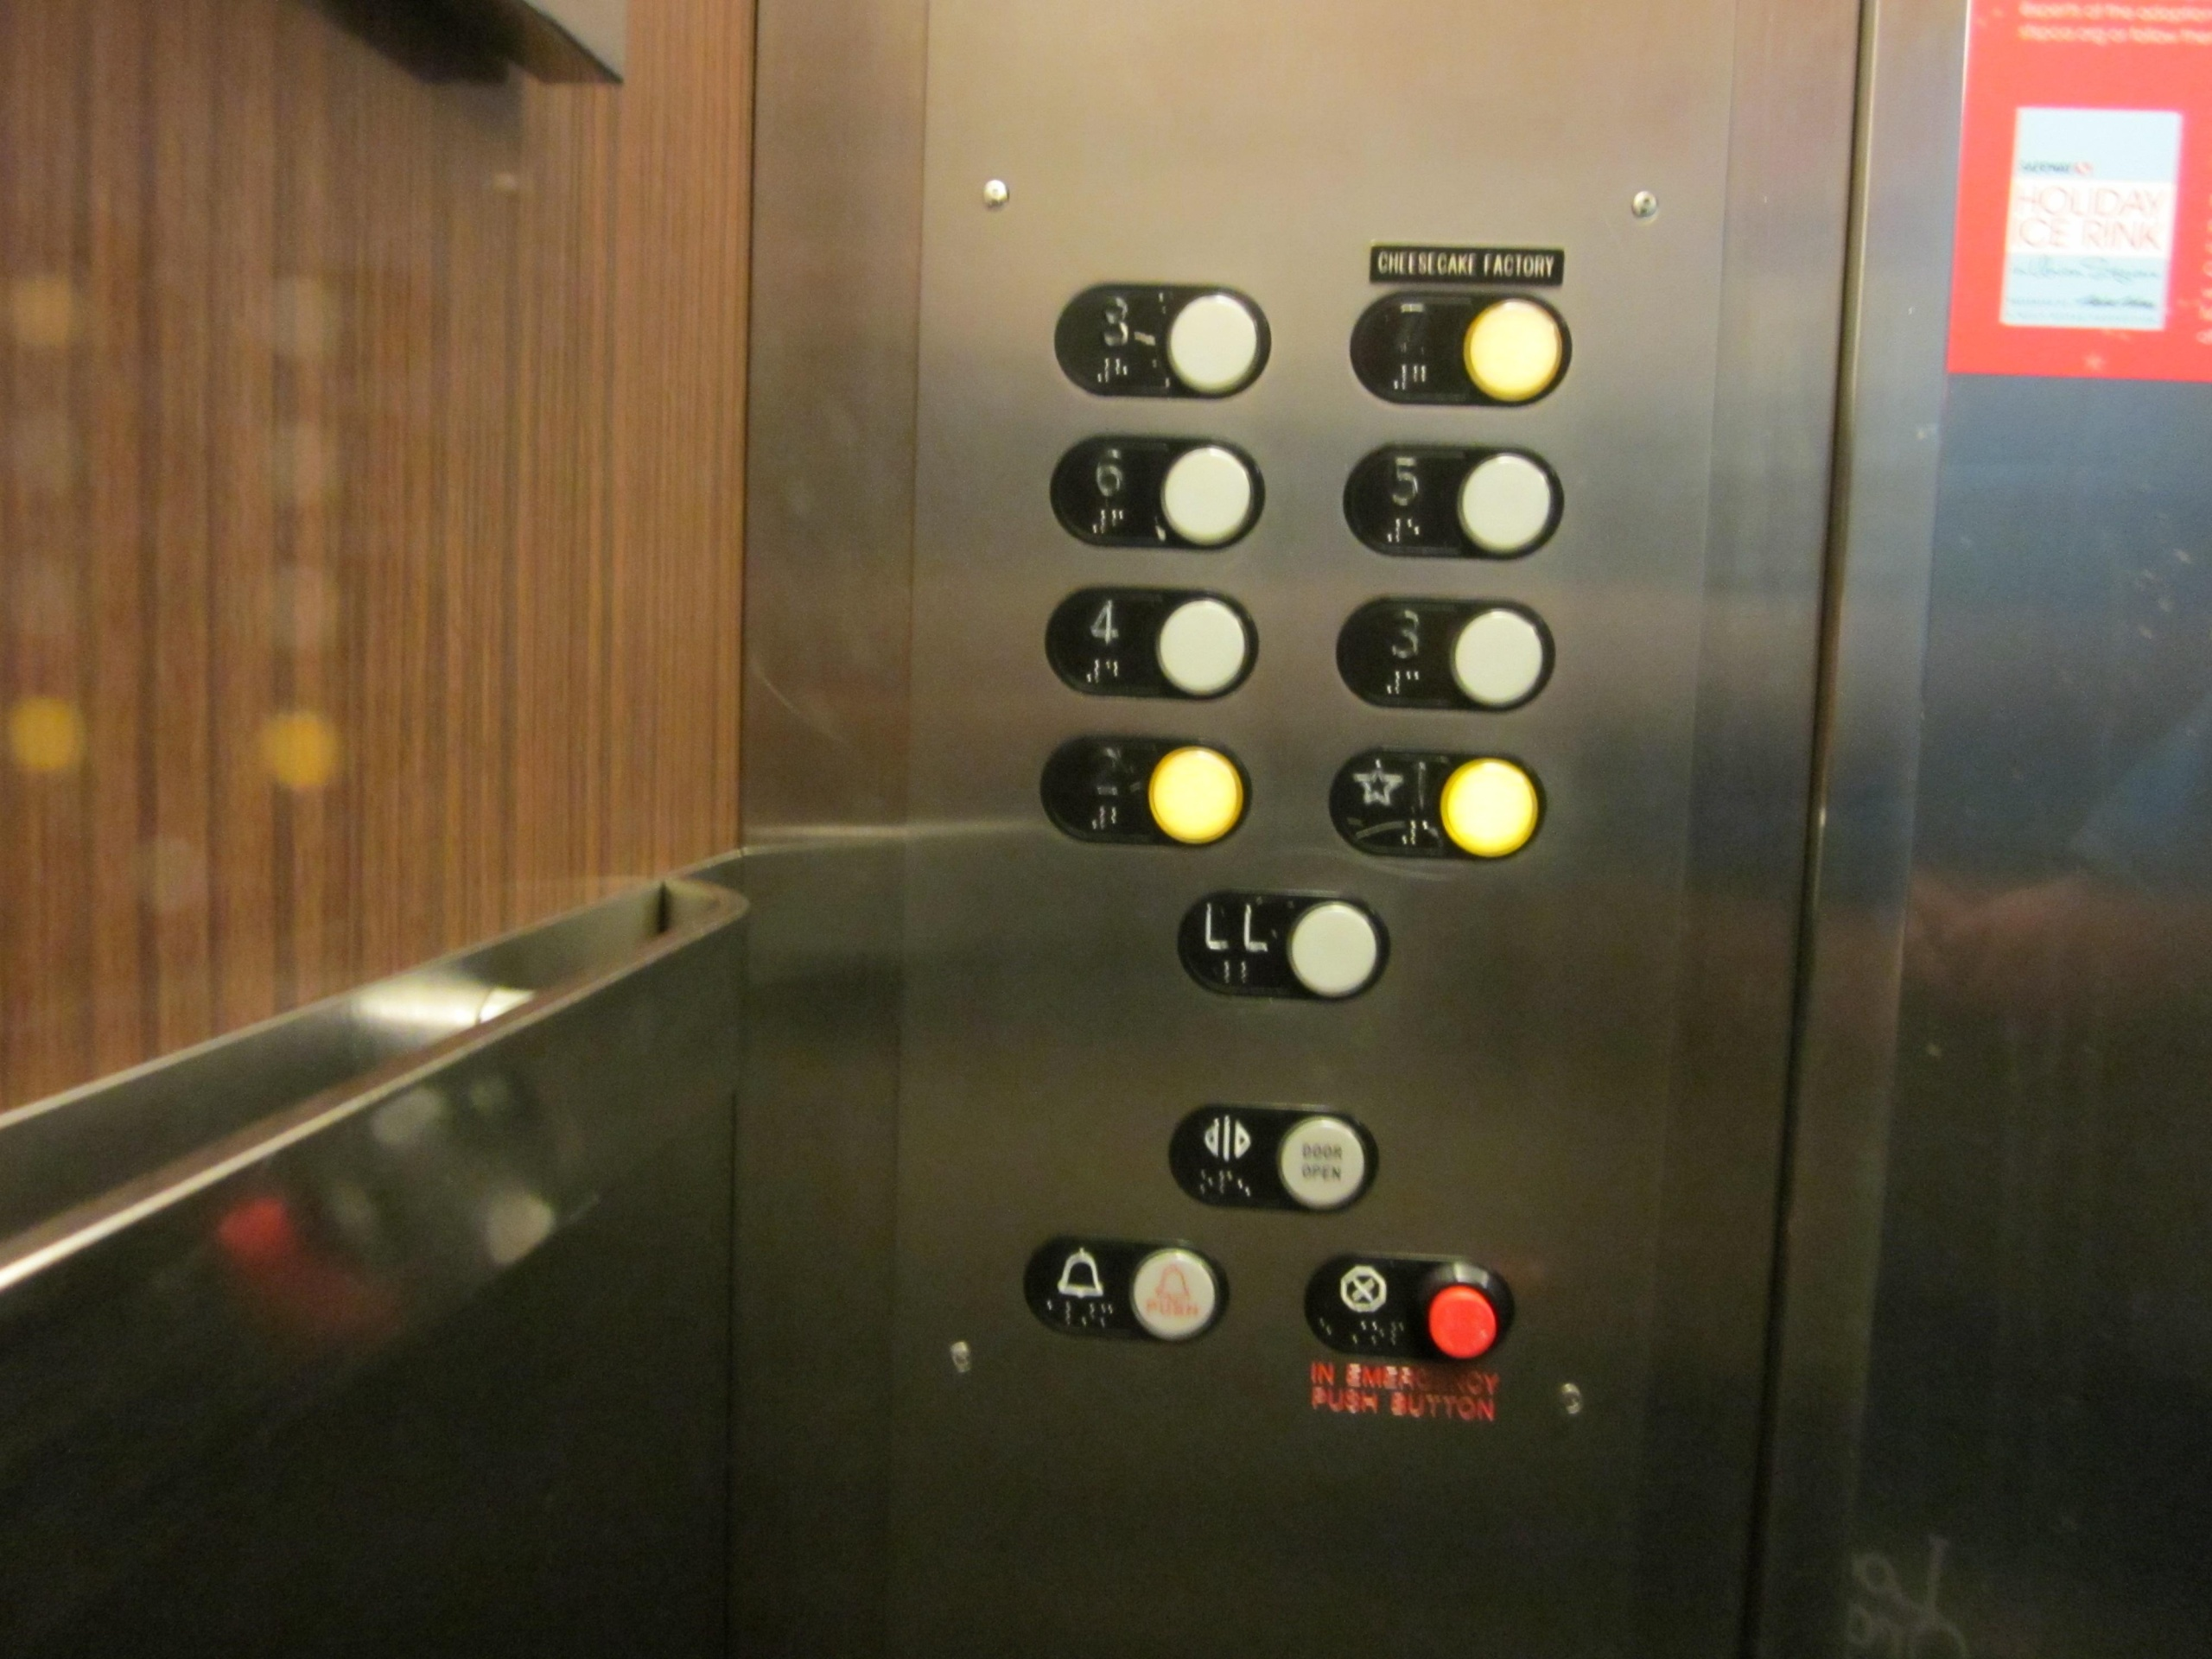1: (1329, 744, 1548, 861)
2: (1040, 734, 1252, 847)
3: (1332, 596, 1557, 713)
4: (1045, 587, 1261, 702)
5: (1341, 443, 1566, 563)
6: (1050, 432, 1266, 556)
7: (1348, 289, 1573, 406)
8: (1050, 284, 1273, 401)
LL: (1181, 889, 1393, 1002)
alarm: (1026, 1230, 1237, 1349)
open: (1167, 1100, 1397, 1222)
stop: (1308, 1249, 1521, 1368)
